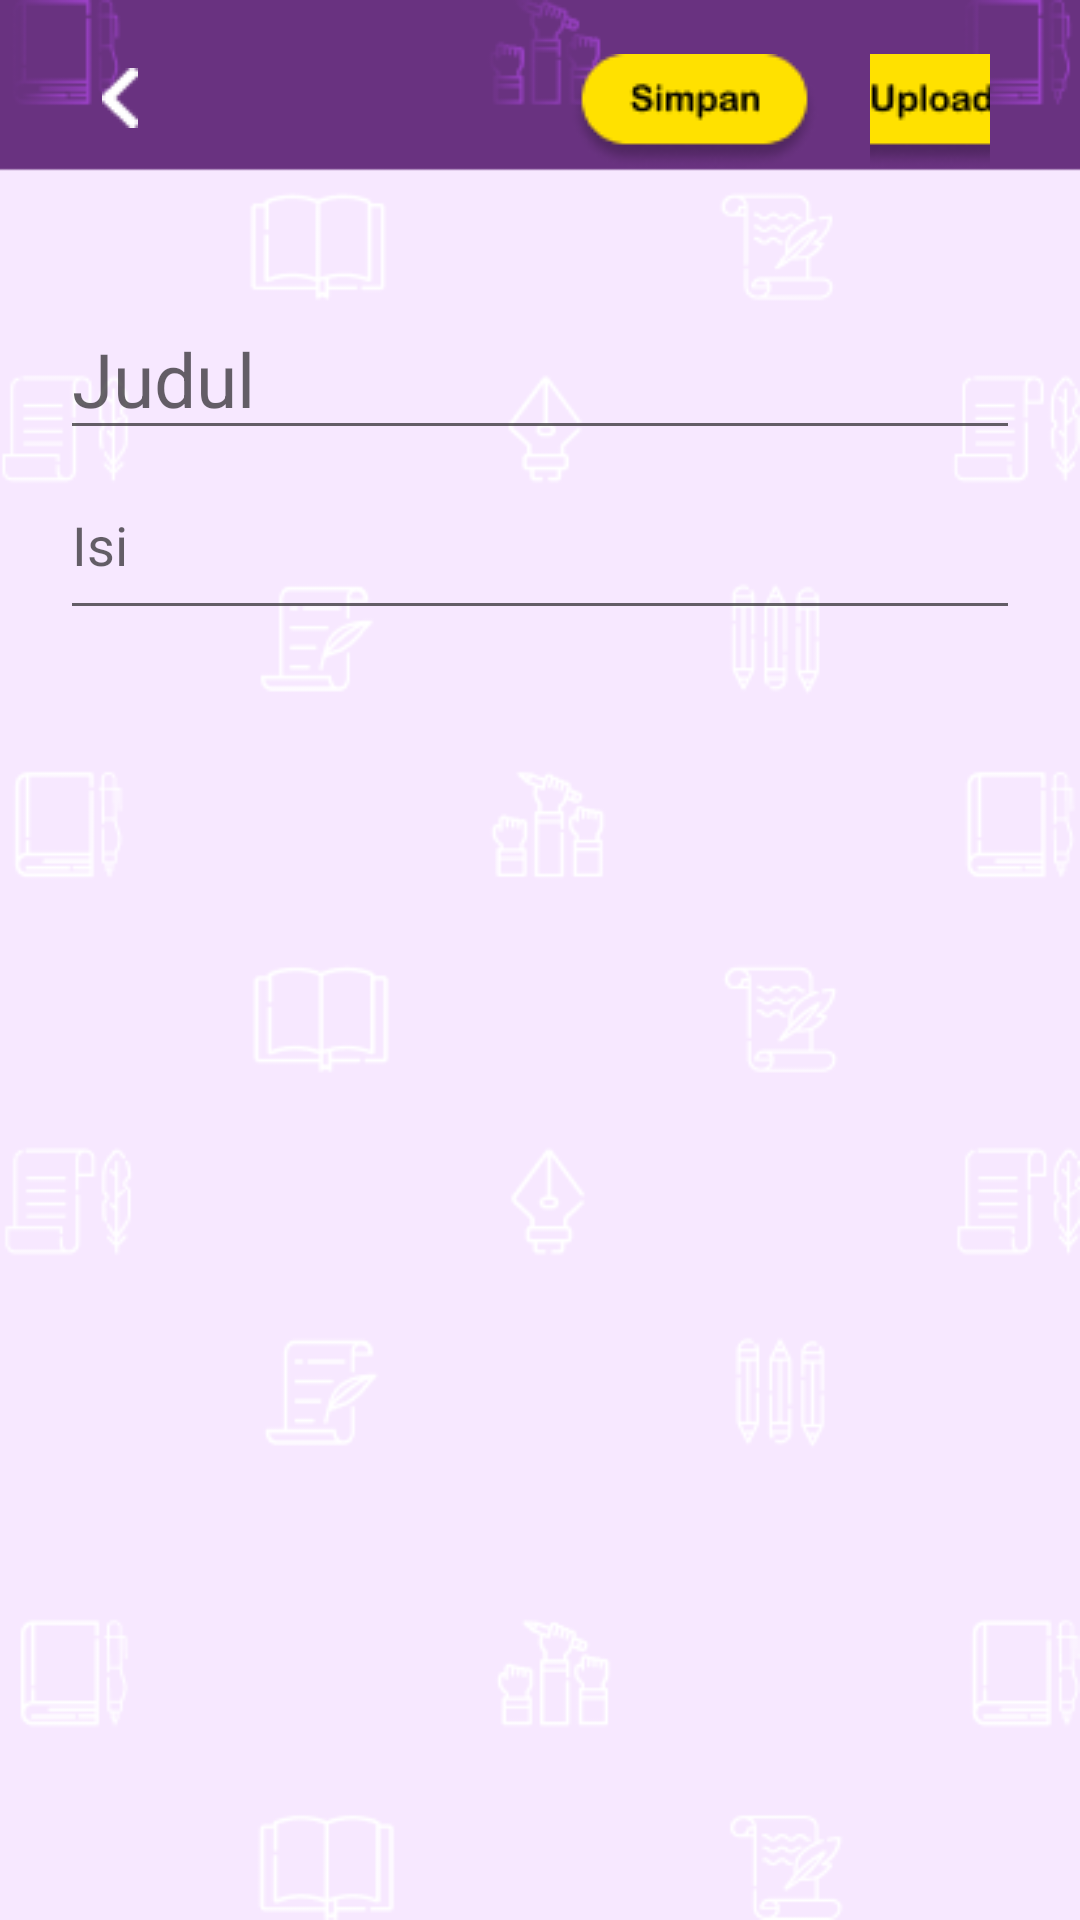

Where to tap for icons on this 1080×1920 app screen, as point (x, y):
btnback: point (114, 94)
